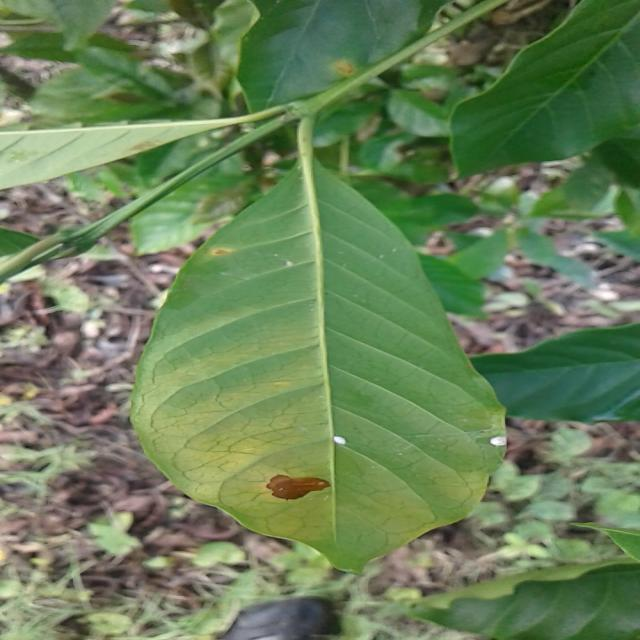Enfermedad-Roya: (128, 121, 508, 576)
